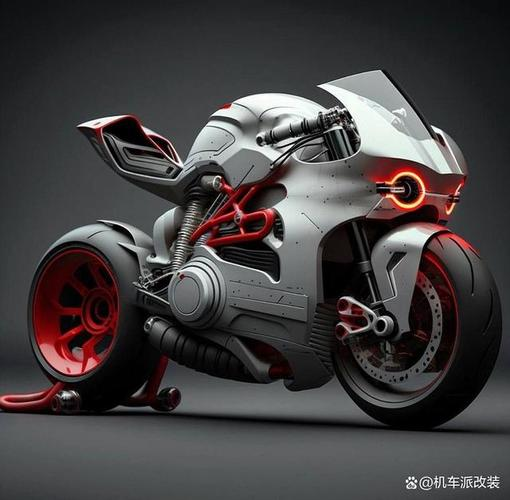摩托车: (22, 55, 509, 438)
